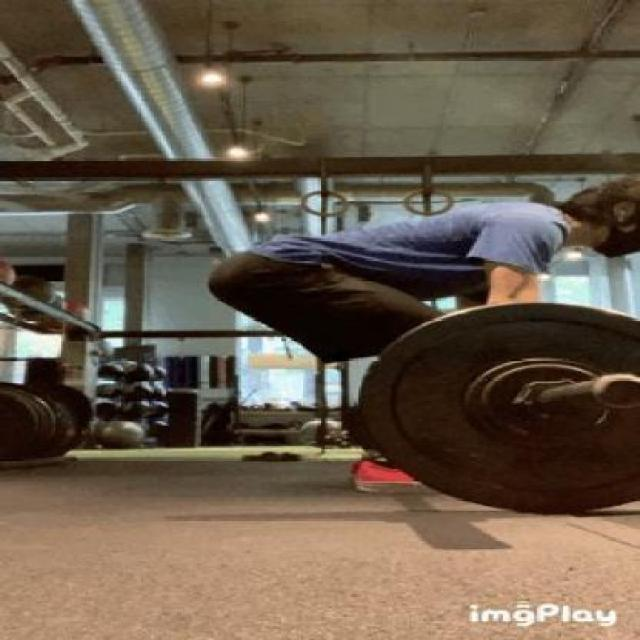barbell: (348, 297, 640, 522)
